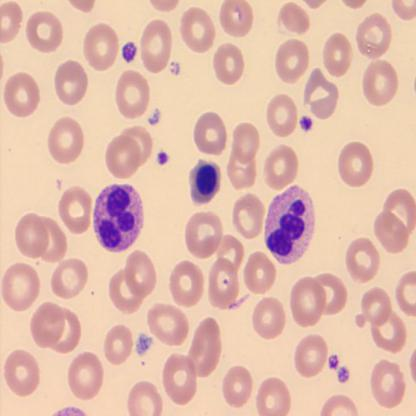NRC: (188, 158, 221, 204)
